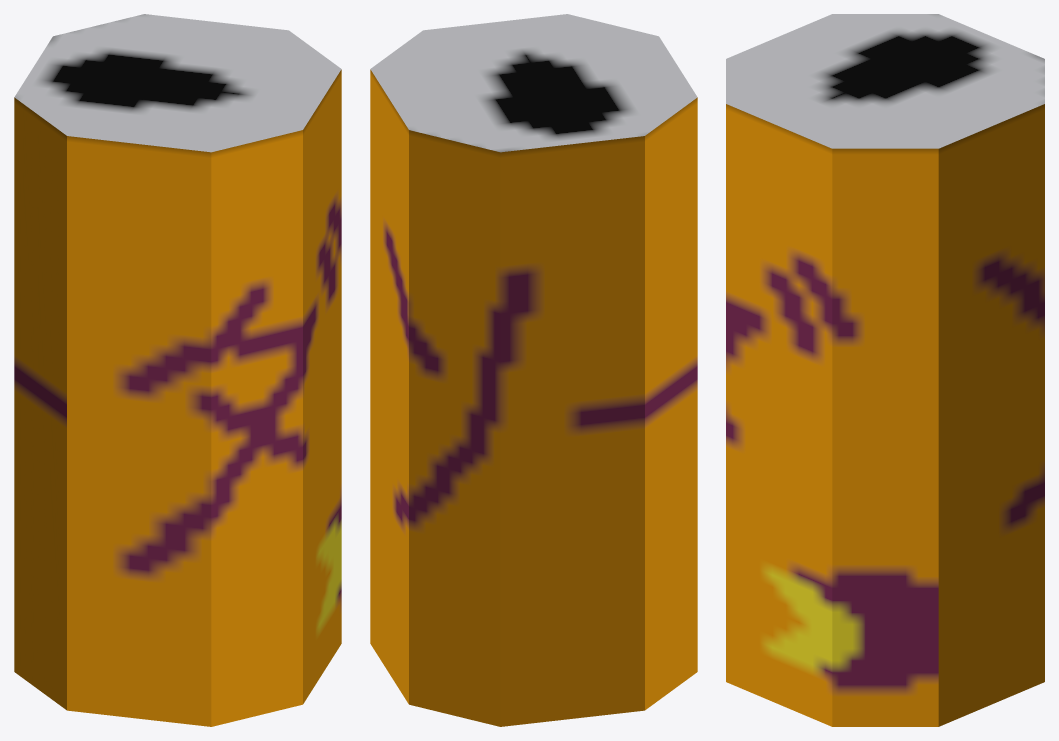
File: soda.obj
The picture shows the model from 3 angles, left to right: view 1: azimuth 30°, elevation 25°; view 2: azimuth 150°, elevation 25°; view 3: azimuth 270°, elevation 25°; orthographic projection.
Visible parts, largest first — view 1: unnamed_7; view 2: unnamed_7; view 3: unnamed_7.
Part boxes in pixels (<box>): unnamed_7: <box>14,14,341,726</box>; unnamed_7: <box>370,14,697,726</box>; unnamed_7: <box>726,14,1044,726</box>.
Bounding box in the file's own units: 1.5 × 3 × 1.5.
